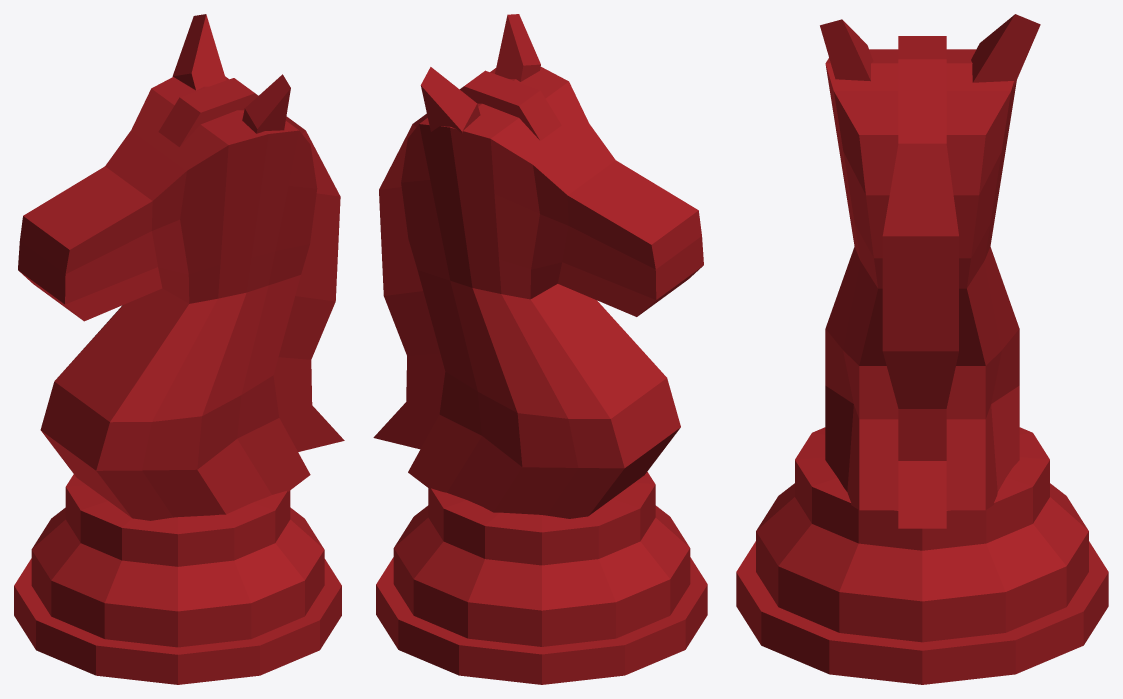
The model's file is lowpoly_n_b.glb.
3 views of the same model, side by side, from view 1: azimuth 30°, elevation 25°; view 2: azimuth 150°, elevation 25°; view 3: azimuth 270°, elevation 25° (orthographic). The views are drawn at different scales.
Visible parts, largest first — view 1: Knight.003; view 2: Knight.003; view 3: Knight.003.
Boxes of the visible parts, box(x1,y1,x2,y2) form: Knight.003: box(14, 14, 344, 684); Knight.003: box(373, 14, 707, 684); Knight.003: box(736, 14, 1108, 684).
Size of the model in its own units: 0.0862 by 0.1533 by 0.0821.
